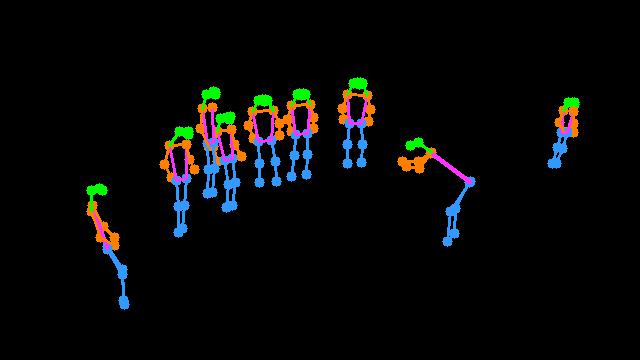normal: (192, 85, 247, 223)
